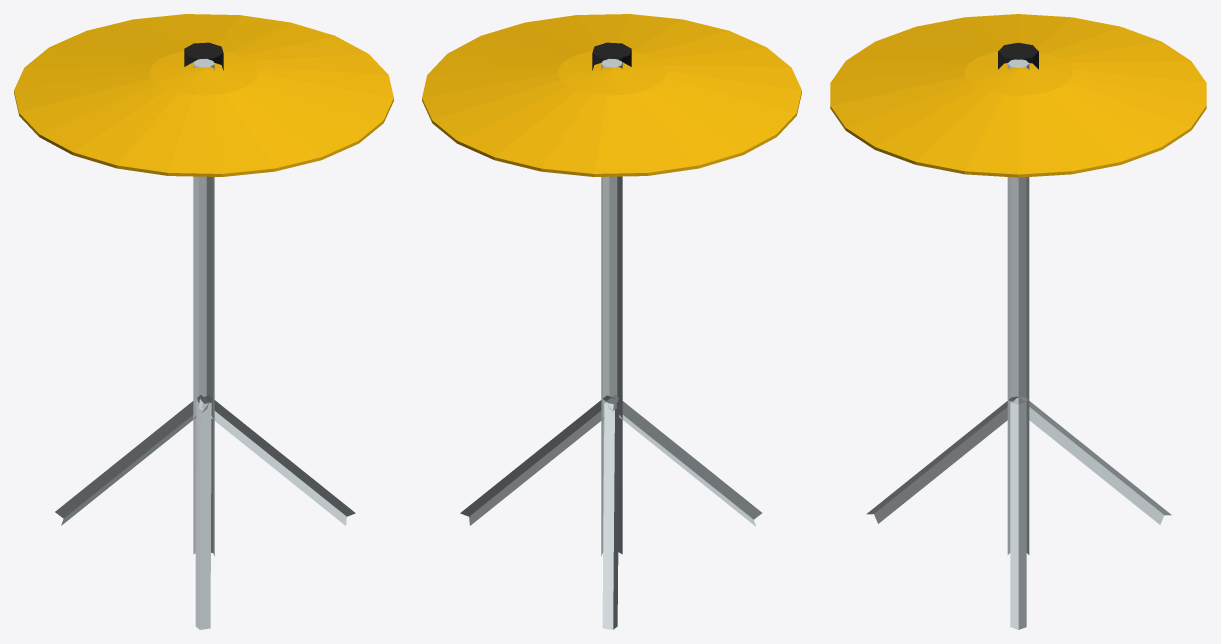
File: cymbal.glb
The picture shows the model from 3 angles, left to right: view 1: azimuth 30°, elevation 25°; view 2: azimuth 150°, elevation 25°; view 3: azimuth 270°, elevation 25°; orthographic projection.
Parts seen in each view (by area): view 1: cymbal; view 2: cymbal; view 3: cymbal.
Part boxes in pixels (<box>): cymbal: <box>14,14,393,629</box>; cymbal: <box>422,14,801,629</box>; cymbal: <box>830,14,1206,629</box>.
Bounding box in the file's own units: 0.56 × 0.8285 × 0.5543.
